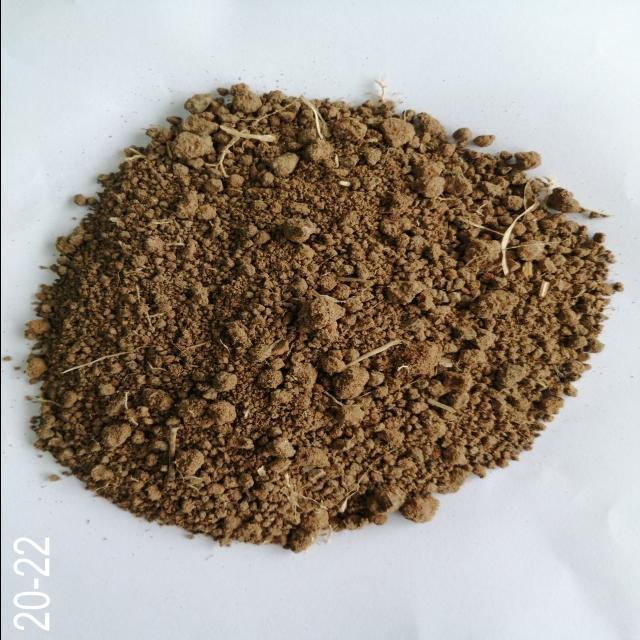soil: (74, 184, 516, 452)
